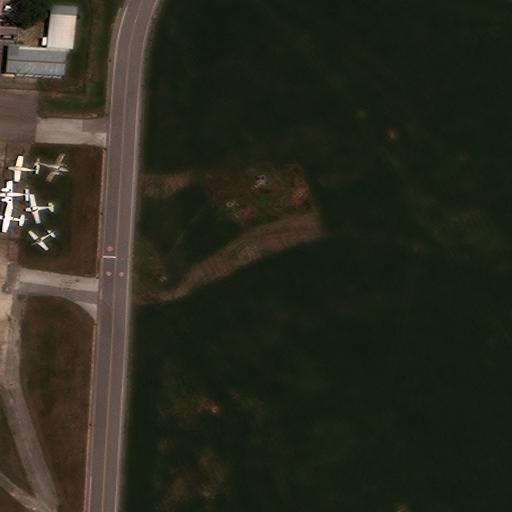Small Civil Transport: (34, 154, 68, 182), (25, 194, 53, 223), (7, 156, 38, 182), (0, 181, 29, 207), (0, 207, 26, 231), (28, 232, 52, 250)
